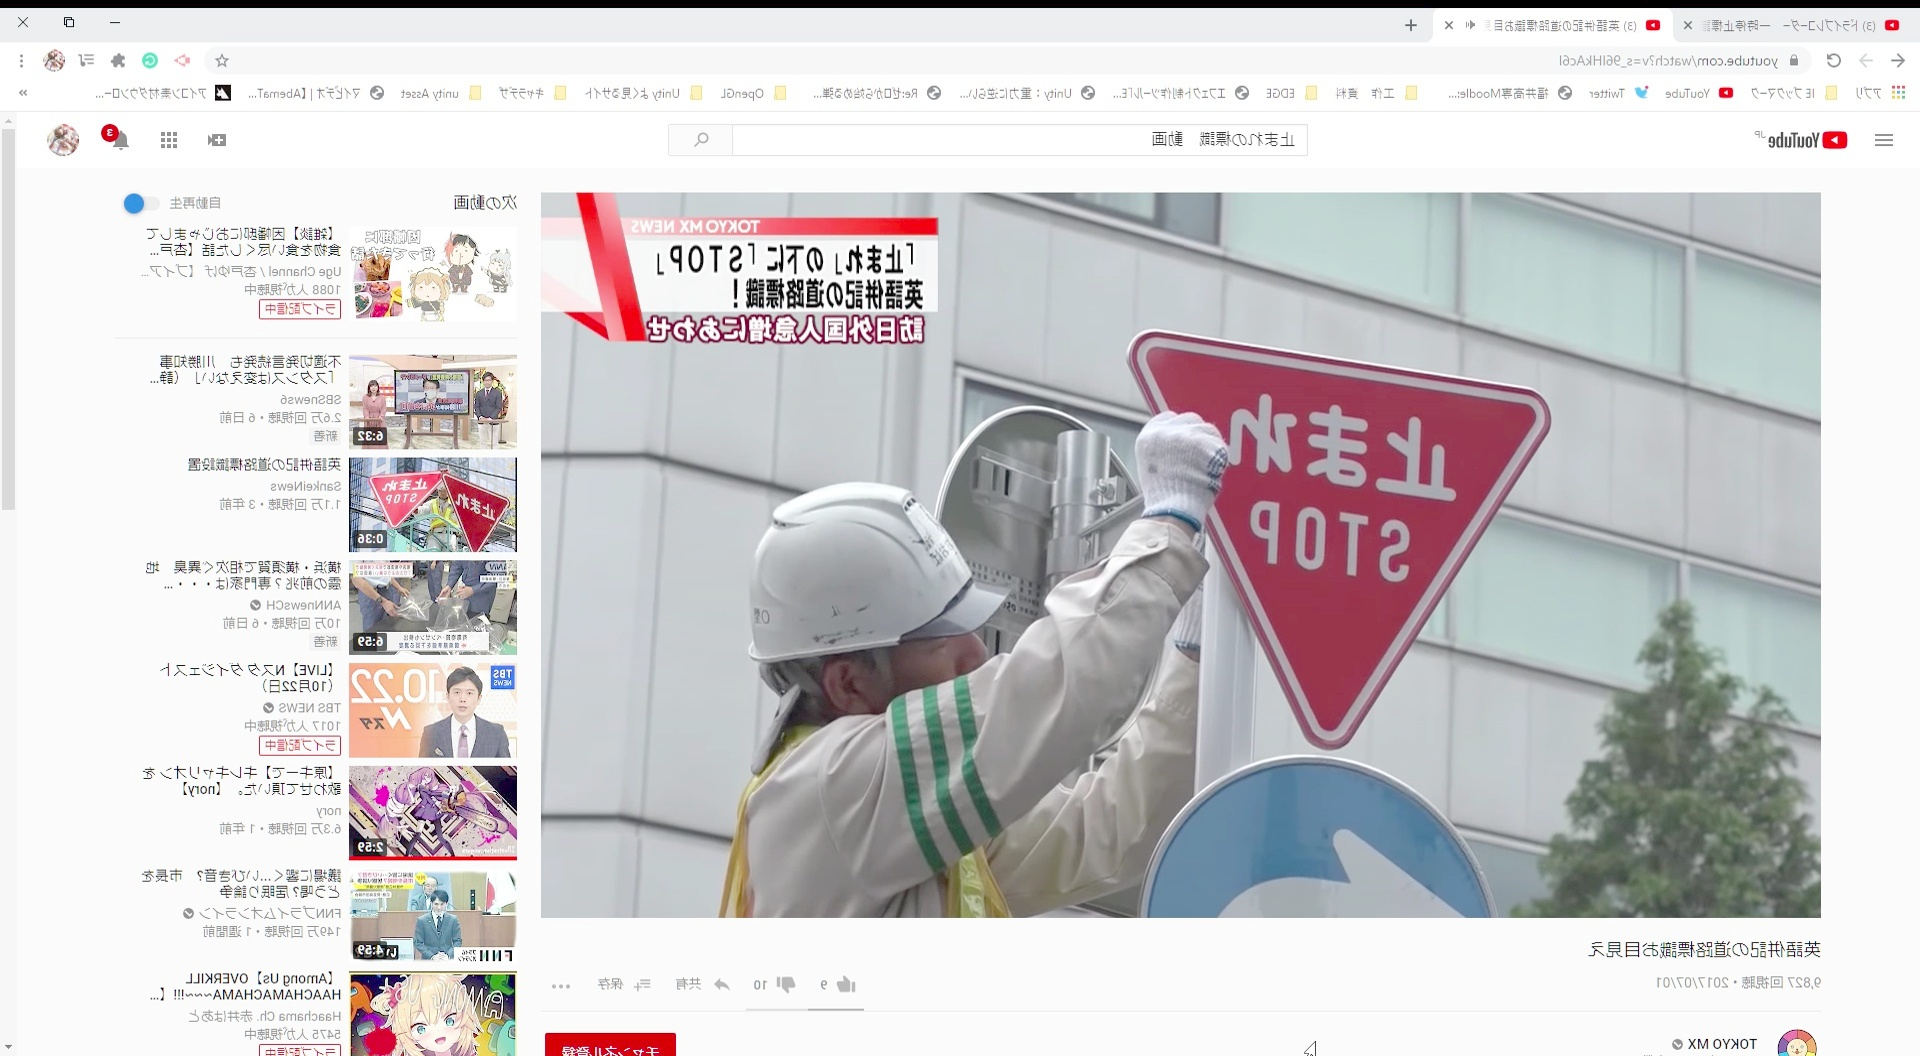Regulatory_sign_triangle: (1121, 319, 1561, 767)
